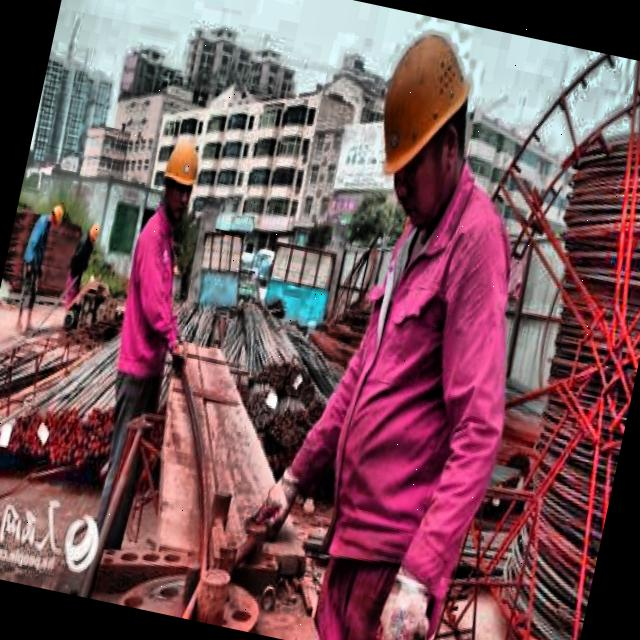helmet: (342, 8, 506, 240), (148, 125, 212, 232), (42, 196, 70, 232), (84, 212, 105, 248)
